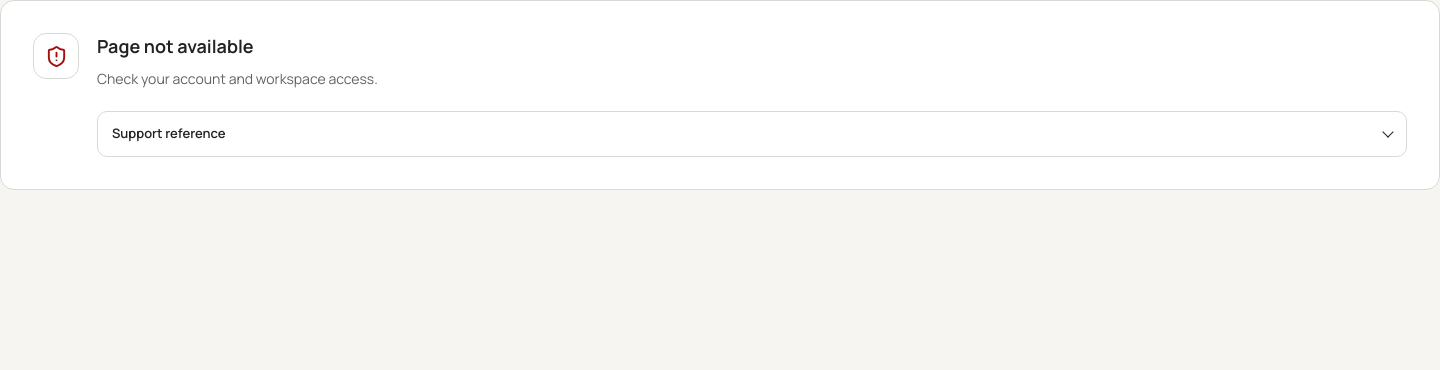
Test case: keeps a hidden-or-denied page neutral and exposes only deliberate support references
This screenshot has width=1440, height=370.
Expected: the heading "Page not available" is shown, [97,34,254,58]
Expected: the text "PC-AUTH-0005" is not shown
Click the heading "Support reference" at [169, 133], box [112,124,226,142]
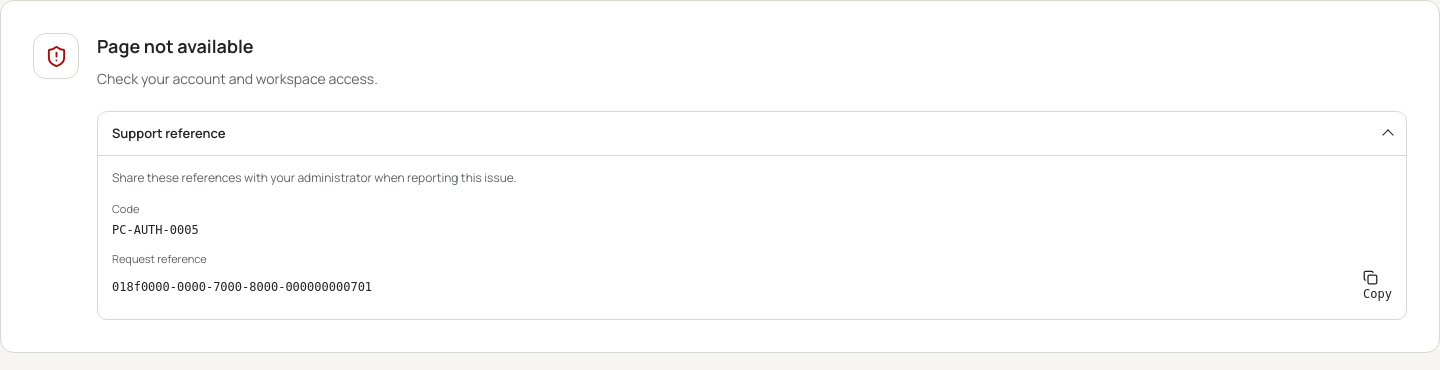
Expected: the text "PC-AUTH-0005" is shown, [112,223,199,237]
Expected: the text "018f0000-0000-7000-8000-000000000701" is shown, [112,280,372,294]
